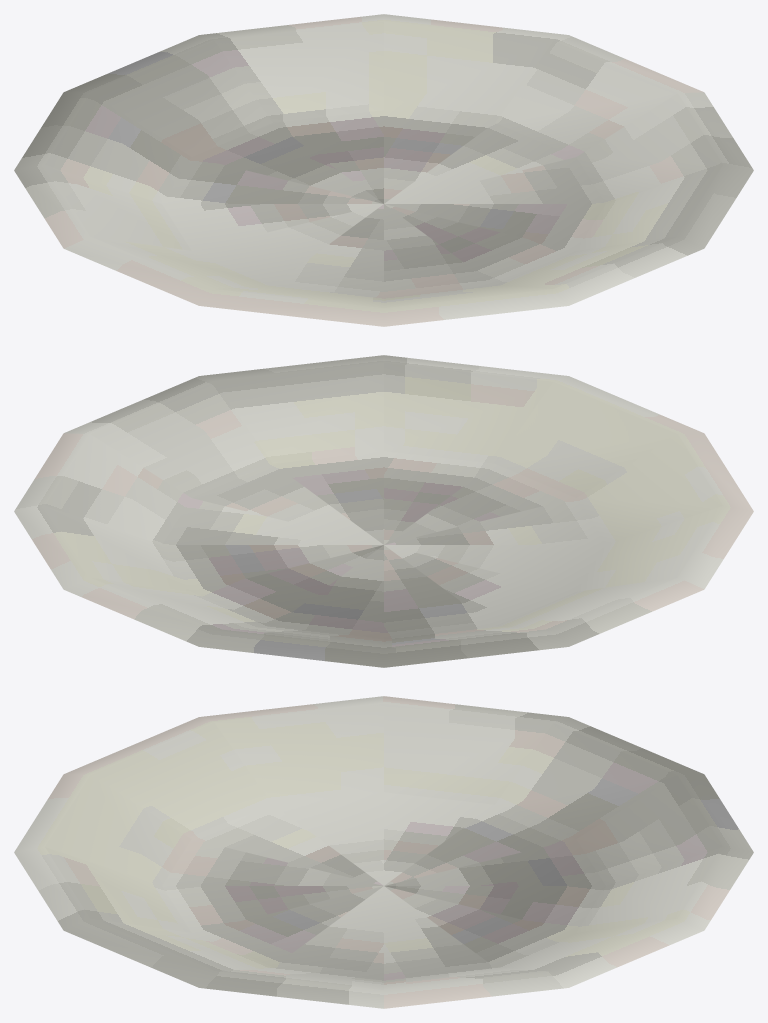
File: plate.glb
The picture shows the model from 3 angles, top to bottom: view 1: azimuth 30°, elevation 25°; view 2: azimuth 150°, elevation 25°; view 3: azimuth 270°, elevation 25°; orthographic projection.
Visible parts, largest first — view 1: plate; view 2: plate; view 3: plate.
Part boxes in pixels (x1=…): plate: x1=14, y1=14, x2=753, y2=326; plate: x1=14, y1=355, x2=753, y2=667; plate: x1=14, y1=696, x2=753, y2=1008.
Bounding box in the file's own units: 0.24 × 0.02 × 0.24.
1 material, 1 textured.
